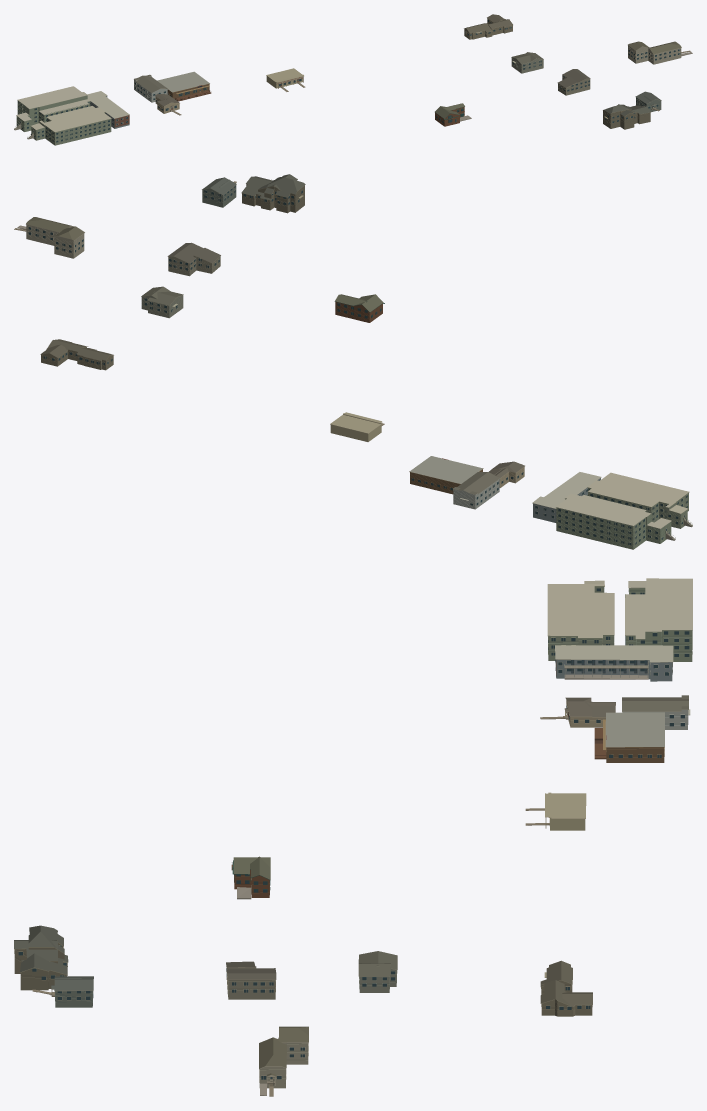
The model's file is site.glb.
The picture shows the model from 3 angles, top to bottom: view 1: azimuth 30°, elevation 25°; view 2: azimuth 150°, elevation 25°; view 3: azimuth 270°, elevation 25°; orthographic projection. The views are drawn at different scales.
Visible parts, largest first — view 1: roof-825d1e23, emerald-apartments-north, roof-99c1fdae, roof-7cc5046c, columbia-2003, roof-424f6339, east19-1445, roof-f262cbec, east18-alley-1472, roof-c0961aa0, roof-bf2551ce, roof-2d8c25c4 (+2 smaller); view 2: emerald-apartments-north, roof-825d1e23, columbia-2003, roof-99c1fdae, roof-7cc5046c, roof-424f6339, east19-1445, roof-f262cbec, east18-alley-1472, roof-2d8c25c4, roof-bf2551ce, roof-c0961aa0 (+2 smaller); view 3: emerald-apartments-north, roof-825d1e23, east19-1445, roof-99c1fdae, columbia-2003, roof-7cc5046c, roof-424f6339, roof-f262cbec, roof-bf2551ce, roof-c0961aa0, east18-alley-1472, roof-2d8c25c4 (+3 smaller).
Boxes of the visible parts, box(x1,y1,x2,y2) form: roof-825d1e23: box(27, 106, 111, 145); emerald-apartments-north: box(14, 86, 90, 131); roof-99c1fdae: box(157, 71, 211, 101); roof-7cc5046c: box(628, 41, 681, 64); columbia-2003: box(603, 104, 650, 129); roof-424f6339: box(464, 14, 512, 39); east19-1445: box(87, 91, 129, 128); roof-f262cbec: box(557, 69, 590, 95); east18-alley-1472: box(134, 74, 167, 102); roof-c0961aa0: box(511, 52, 543, 73); roof-bf2551ce: box(266, 68, 303, 88); roof-2d8c25c4: box(435, 103, 464, 126); emerald-apartments-north: box(556, 493, 675, 549); roof-825d1e23: box(587, 472, 692, 528); columbia-2003: box(241, 174, 305, 213); roof-99c1fdae: box(409, 456, 483, 494); roof-7cc5046c: box(26, 217, 84, 258); roof-424f6339: box(40, 339, 113, 370); east19-1445: box(532, 472, 601, 522); roof-f262cbec: box(167, 242, 220, 276); east18-alley-1472: box(453, 472, 500, 509); roof-2d8c25c4: box(334, 294, 384, 322); roof-bf2551ce: box(330, 412, 382, 441); roof-c0961aa0: box(141, 286, 183, 318); emerald-apartments-north: box(625, 578, 692, 661); roof-825d1e23: box(547, 580, 614, 660); east19-1445: box(555, 645, 673, 681); roof-99c1fdae: box(594, 712, 664, 762); columbia-2003: box(14, 925, 68, 990); roof-7cc5046c: box(259, 1026, 308, 1088); roof-424f6339: box(540, 960, 592, 1016); roof-f262cbec: box(226, 961, 276, 999); roof-bf2551ce: box(545, 792, 586, 830); roof-c0961aa0: box(358, 951, 397, 992); east18-alley-1472: box(622, 695, 690, 729); roof-2d8c25c4: box(231, 856, 270, 897).
Size of the model in its own units: 396 by 23.95 by 217.
